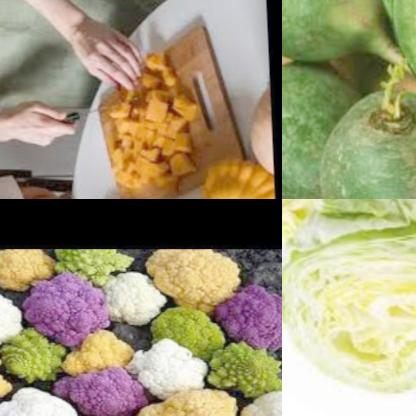cayliflower: (18, 268, 108, 342), (147, 249, 239, 316), (142, 294, 225, 358), (202, 336, 282, 400), (209, 282, 282, 350), (127, 338, 207, 400), (96, 264, 169, 322), (0, 323, 61, 391), (57, 326, 129, 382), (47, 248, 145, 289), (122, 387, 240, 416), (0, 382, 92, 416), (0, 248, 56, 295), (230, 383, 282, 416), (0, 282, 26, 344)
pumpkin: (100, 46, 195, 192), (192, 154, 274, 199), (241, 78, 271, 180)
redka: (282, 62, 367, 199), (315, 88, 416, 199), (282, 0, 405, 73)
salad: (282, 199, 416, 400), (282, 199, 416, 252)
